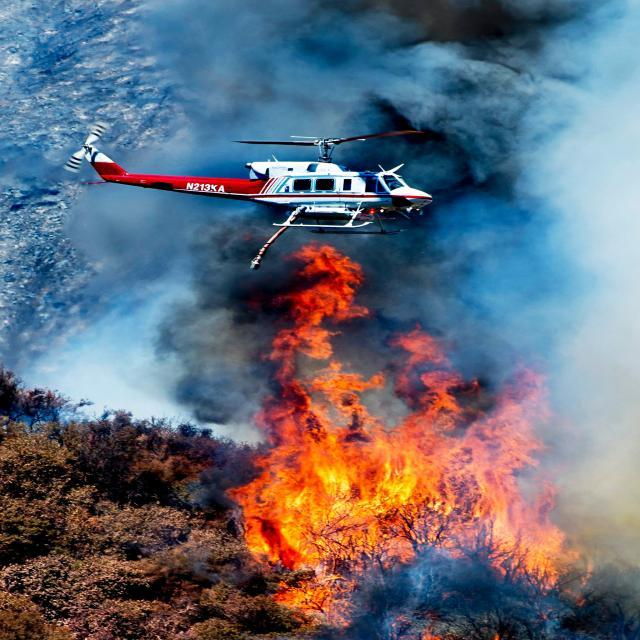Fire: (244, 238, 580, 640)
Smoke: (135, 0, 594, 464)
